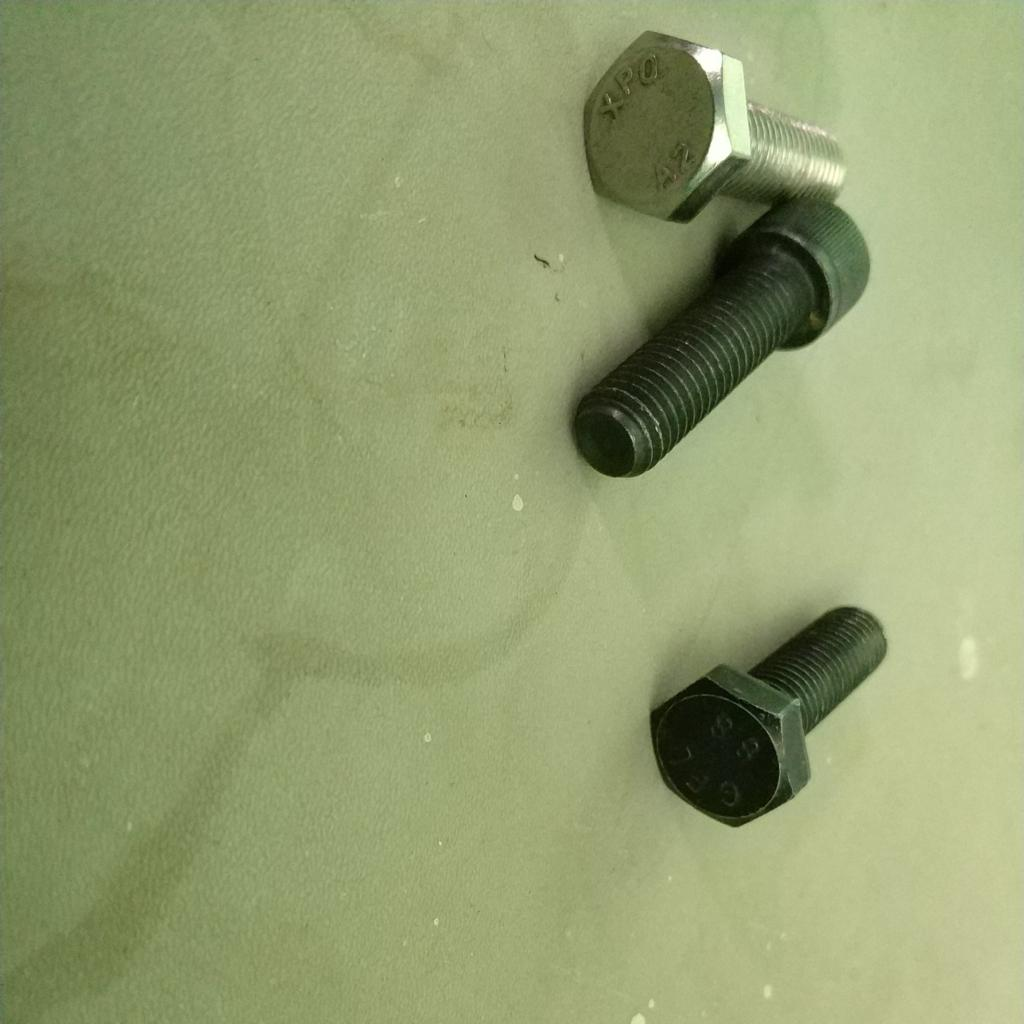screwtype1black: (725, 201, 876, 368)
screwtype2black: (632, 595, 892, 833)
screwtype2silver: (580, 25, 865, 225)
